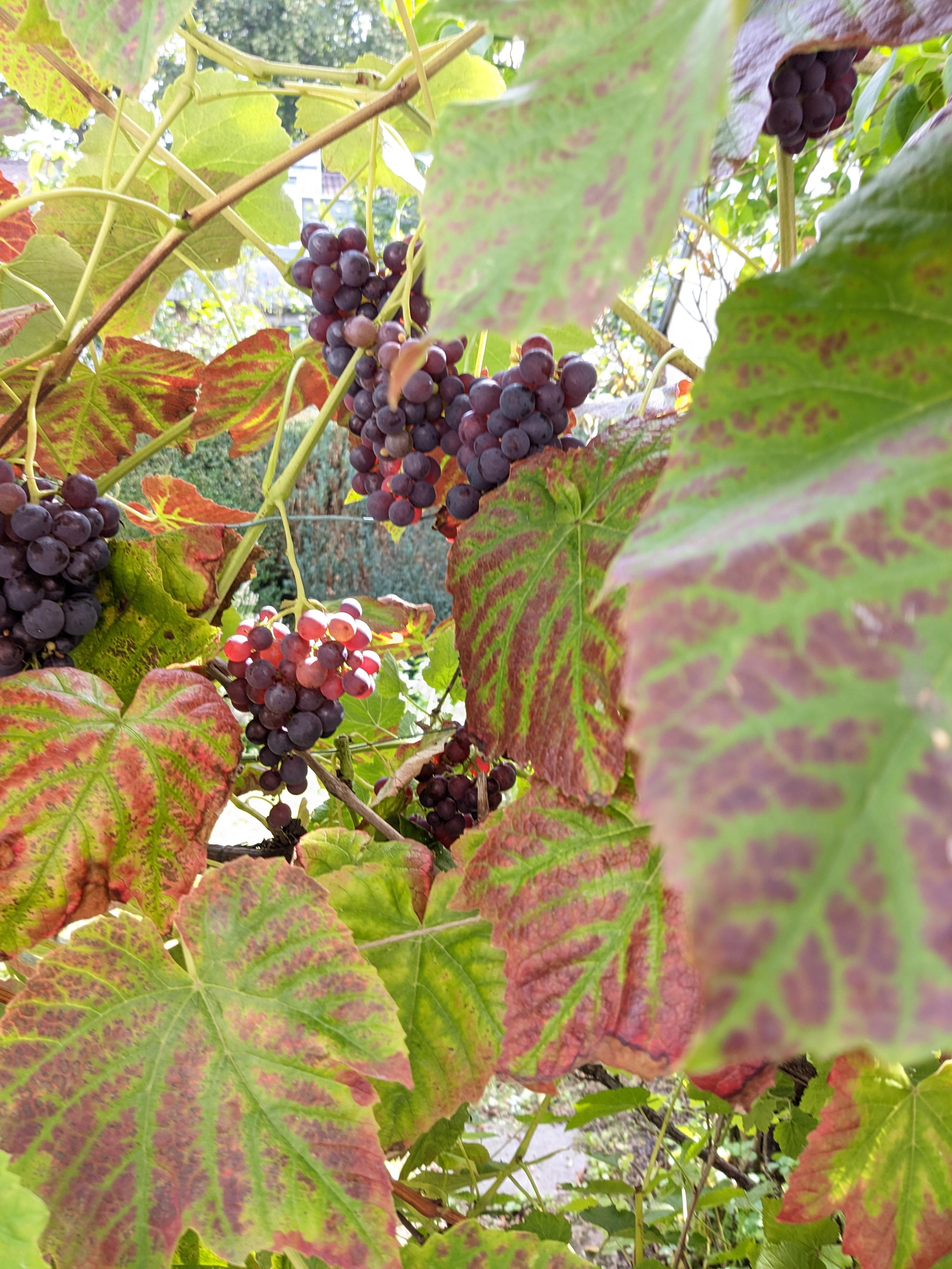Grape Ripe: (289, 216, 463, 526), (227, 599, 381, 827), (453, 332, 601, 515), (0, 460, 121, 675), (375, 727, 520, 844), (765, 43, 862, 155)
